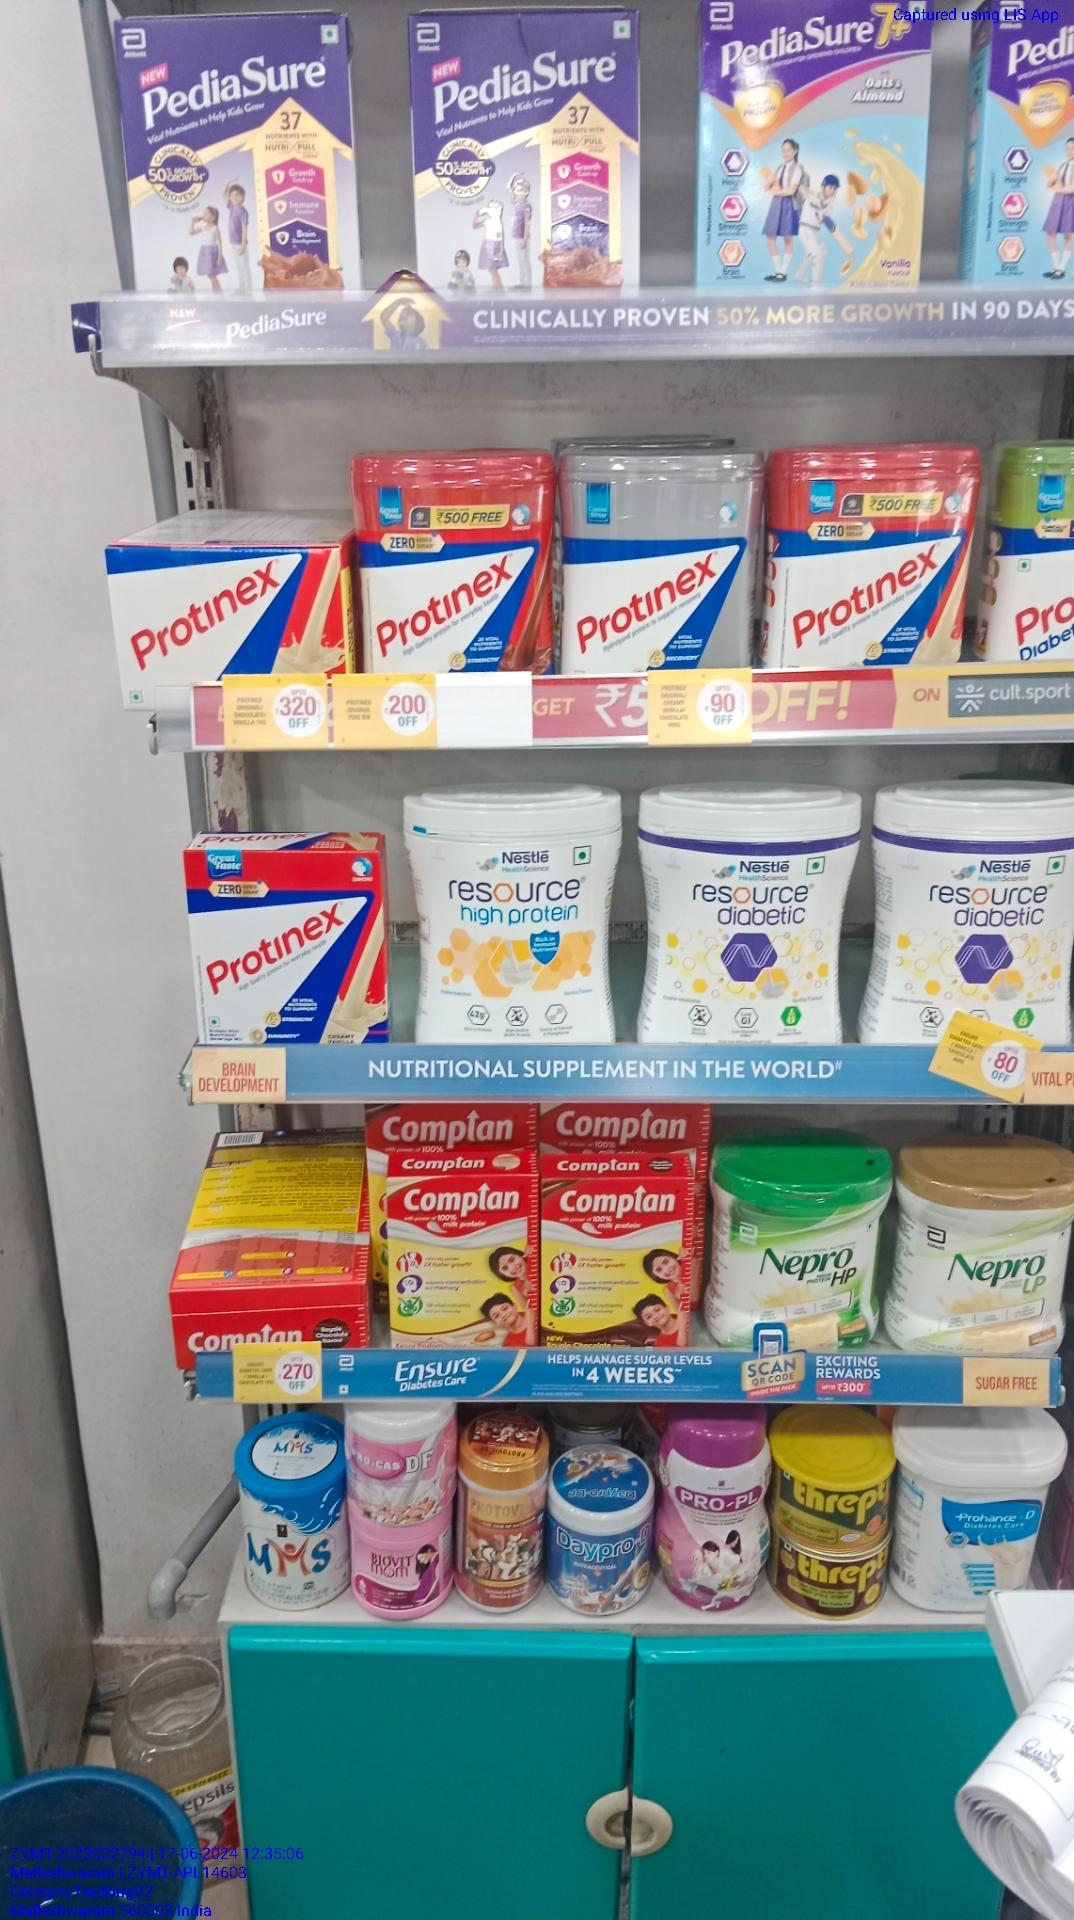COMPLAN_CHOCOLATE_500_GMS_PACK: (544, 1178, 687, 1349)
COMPLAN_KESAR_BADAM_500_GMS_PACK: (388, 1178, 537, 1348)
PEDIASURE_CHOCOLATE_500_G_PACK: (117, 16, 356, 293), (420, 20, 639, 290)
PROTINEX_CHOCOLATE_400_G_JAR: (364, 452, 554, 679)
PROTINEX_ORIGINAL_400_G_JAR: (569, 459, 751, 670)
PROTINEX_VANILLA_400_G_JAR: (768, 454, 967, 657)
